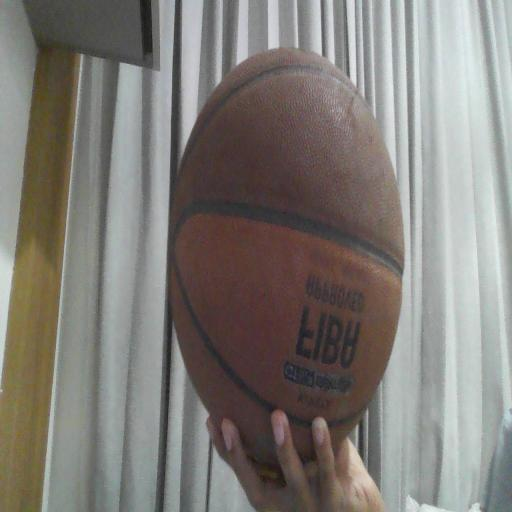basketball: (170, 49, 403, 475)
